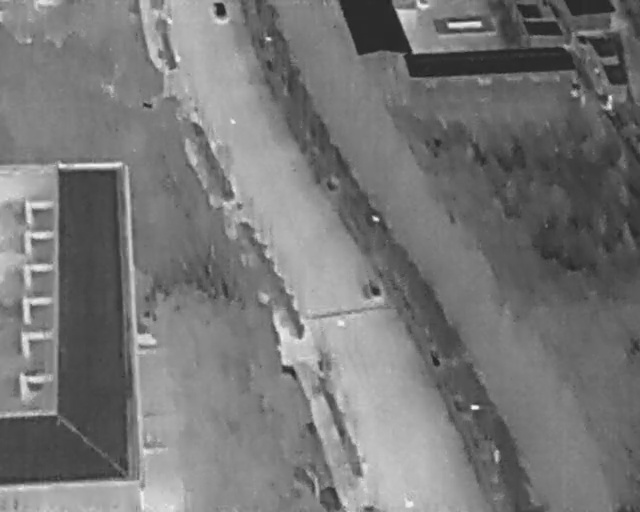Car: (212, 1, 229, 21), (492, 447, 501, 465)
